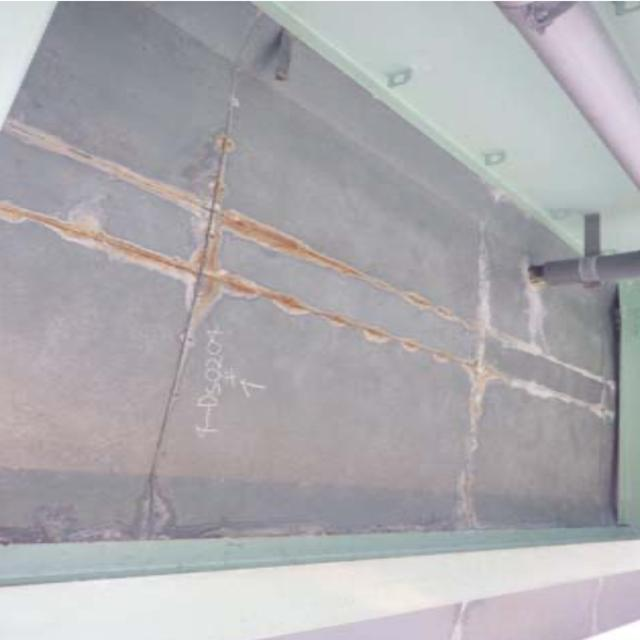corrosion: (16, 116, 460, 393)
